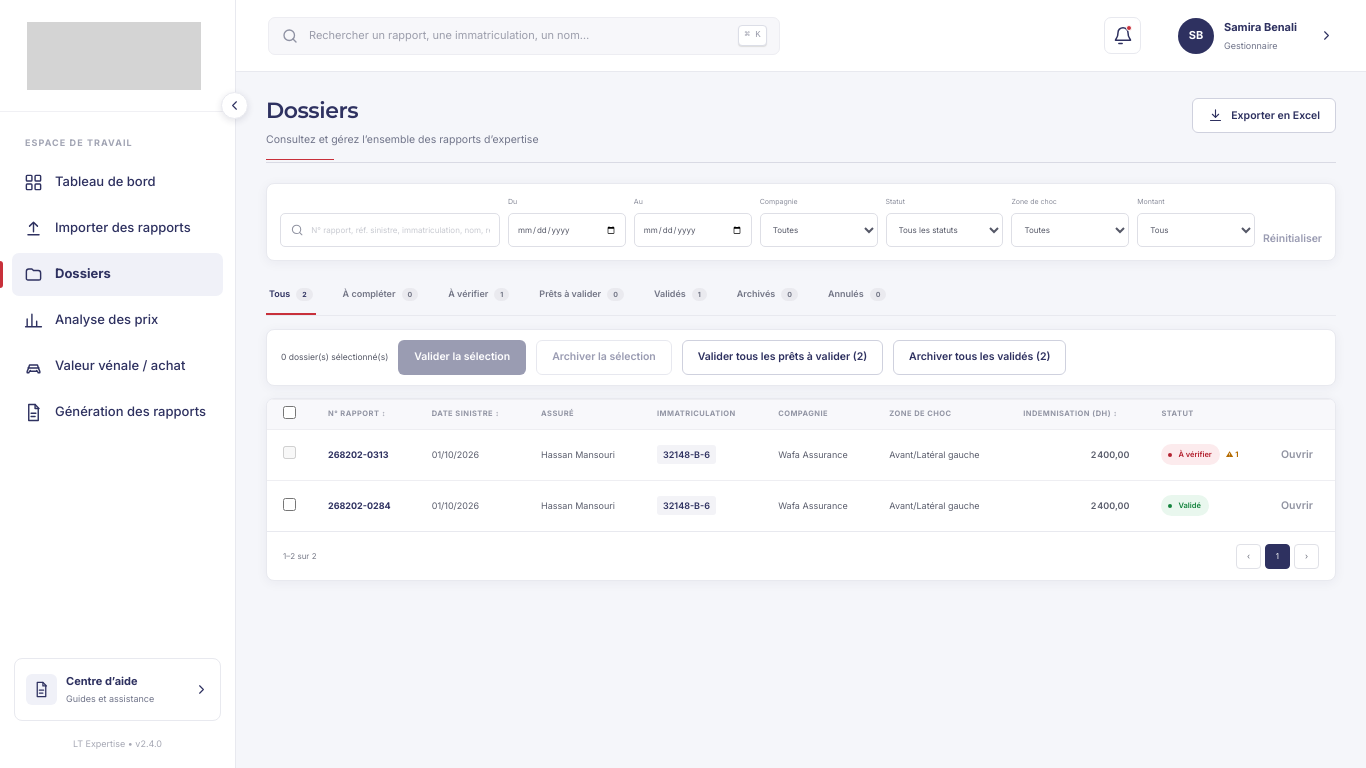
Test: mise en page commune › ouvre un dossier non validé selon le rôle de {"identifiant":"gestionnaire","nom":"Benali","prenom":"Samira","role":"GESTIONNAIRE"}
Click the button "Ouvrir" in the row of "268202-0313" at (1297, 454), box [1281,447,1313,462]
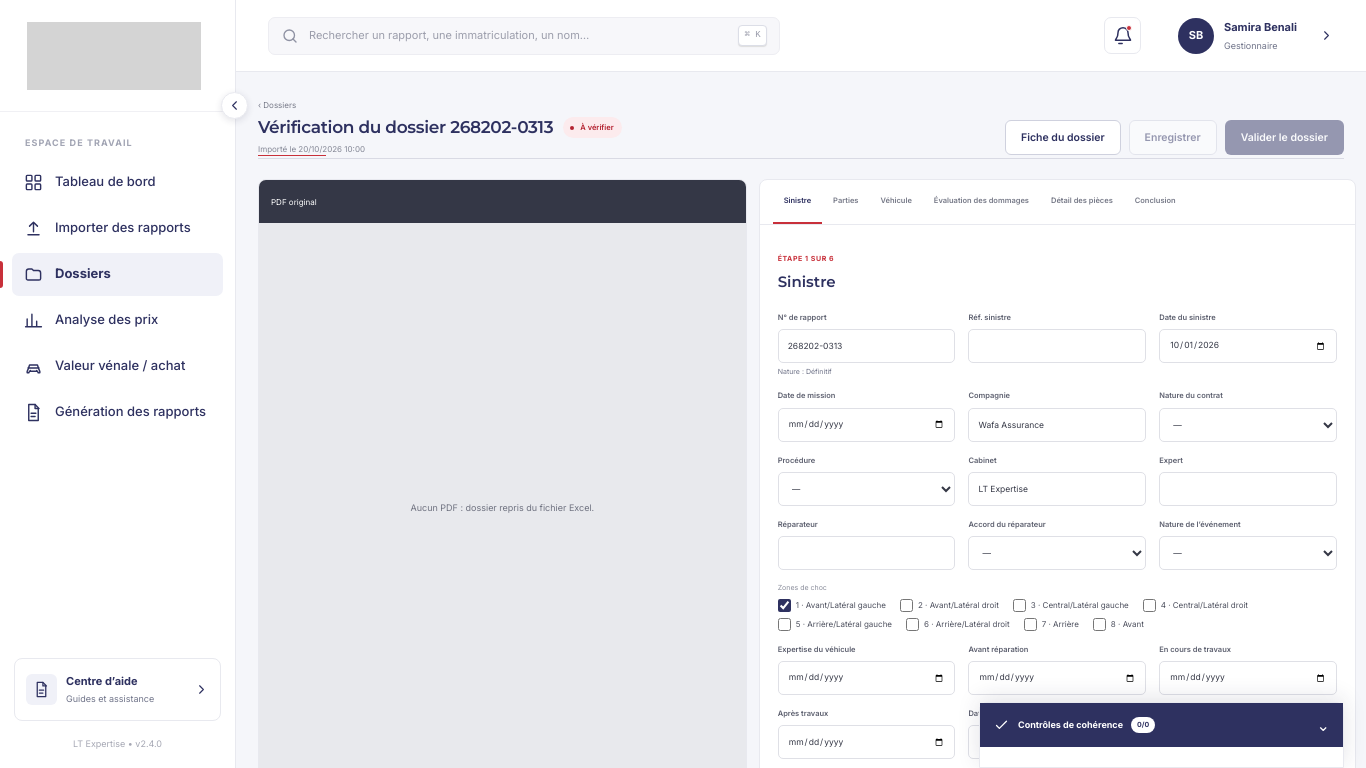
Expected: the heading "Vérification du dossier 268202-0313" is shown, [258,117,553,138]
